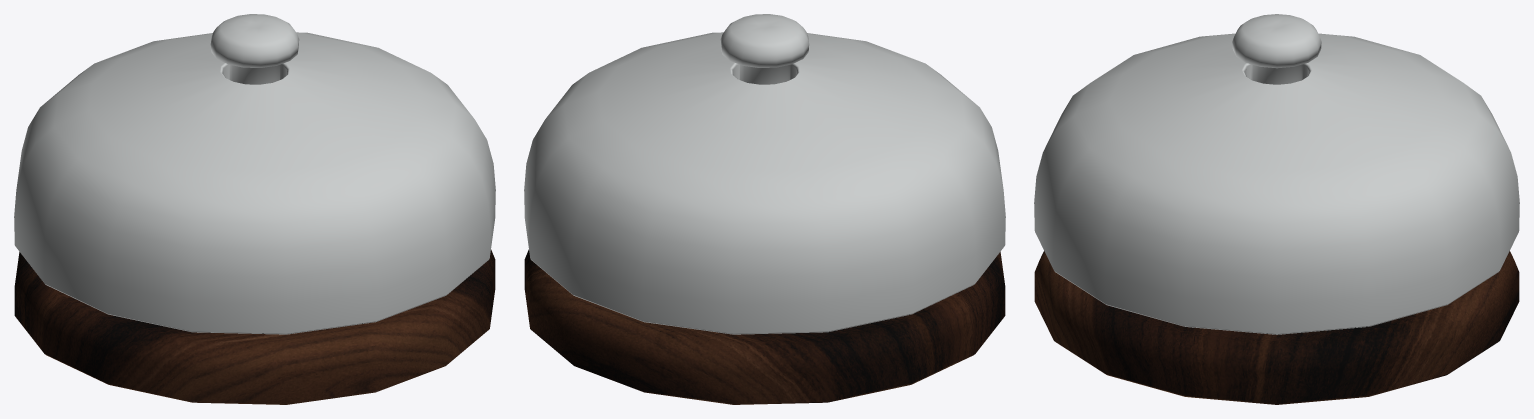
3 views of the same model, side by side, from view 1: azimuth 30°, elevation 25°; view 2: azimuth 150°, elevation 25°; view 3: azimuth 270°, elevation 25° (orthographic).
Parts seen in each view (by area): view 1: Object_2, Object_3; view 2: Object_2, Object_3; view 3: Object_2, Object_3.
Boxes of the visible parts, <box> form: Object_2: <box>14,32,495,404</box>; Object_3: <box>210,14,299,84</box>; Object_2: <box>524,32,1005,404</box>; Object_3: <box>720,14,809,84</box>; Object_2: <box>1034,33,1519,404</box>; Object_3: <box>1232,14,1321,84</box>.
Size of the model in its own units: 1.85 by 1.17 by 1.85.
2 materials, 2 textured.
